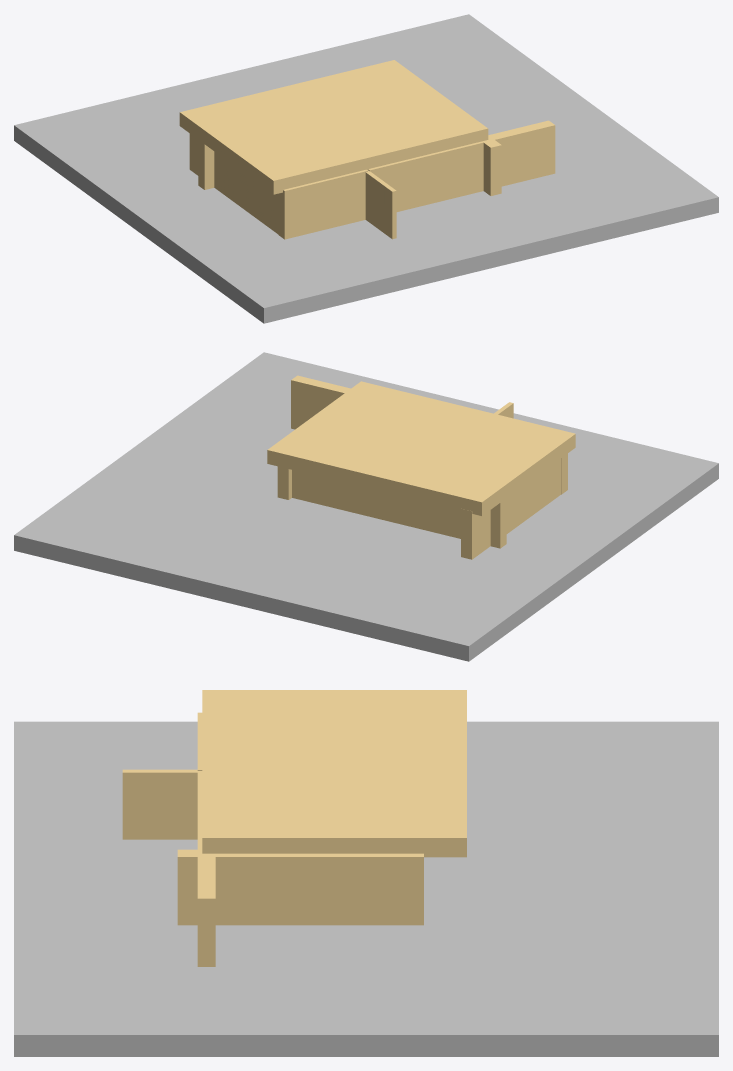
Rendered from clase.gltf.
The picture shows the model from 3 angles, top to bottom: view 1: azimuth 30°, elevation 25°; view 2: azimuth 150°, elevation 25°; view 3: azimuth 270°, elevation 25°; orthographic projection. The views are drawn at different scales.
Visible parts, largest first — view 1: Cube.001, Plane.027, Plane.014, Plane, Plane.001, Plane.004, Plane.017, Plane.013, Plane.016; view 2: Cube.001, Plane.027, Plane.016, Plane.014, Plane.001, Plane.017; view 3: Cube.001, Plane.027, Plane.013, Plane.004, Plane.014.
Boxes of the visible parts, <box> form: Cube.001: <box>14,14,718,323</box>; Plane.027: <box>179,60,488,194</box>; Plane.014: <box>368,120,555,211</box>; Plane: <box>278,169,367,239</box>; Plane.001: <box>234,166,278,233</box>; Plane.004: <box>365,170,396,239</box>; Plane.017: <box>189,133,233,201</box>; Plane.013: <box>482,135,501,195</box>; Plane.016: <box>198,140,214,189</box>; Cube.001: <box>14,352,718,661</box>; Plane.027: <box>267,381,575,515</box>; Plane.016: <box>292,470,506,548</box>; Plane.014: <box>291,375,350,429</box>; Plane.001: <box>516,458,561,526</box>; Plane.017: <box>461,491,516,559</box>; Cube.001: <box>14,721,718,1056</box>; Plane.027: <box>202,690,466,857</box>; Plane.013: <box>177,849,423,925</box>; Plane.004: <box>122,769,197,839</box>; Plane.014: <box>197,771,215,966</box>.
Bounding box in the file's own units: 41.25 × 6.52 × 39.25.
